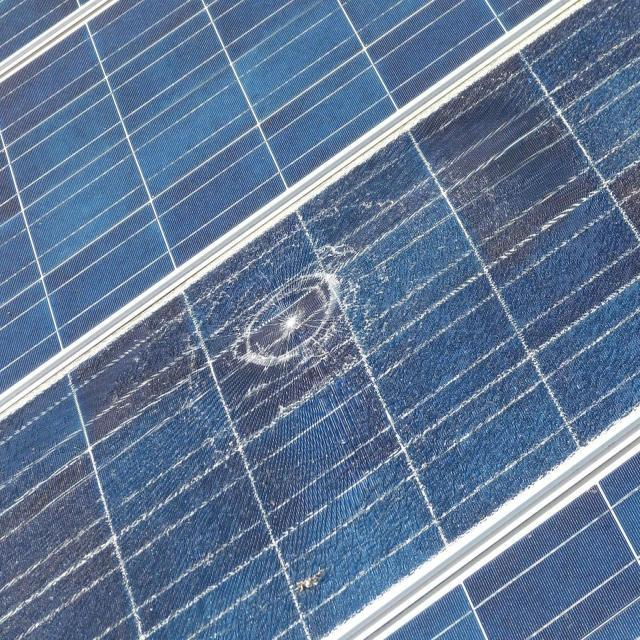cracked: (28, 8, 640, 623)
